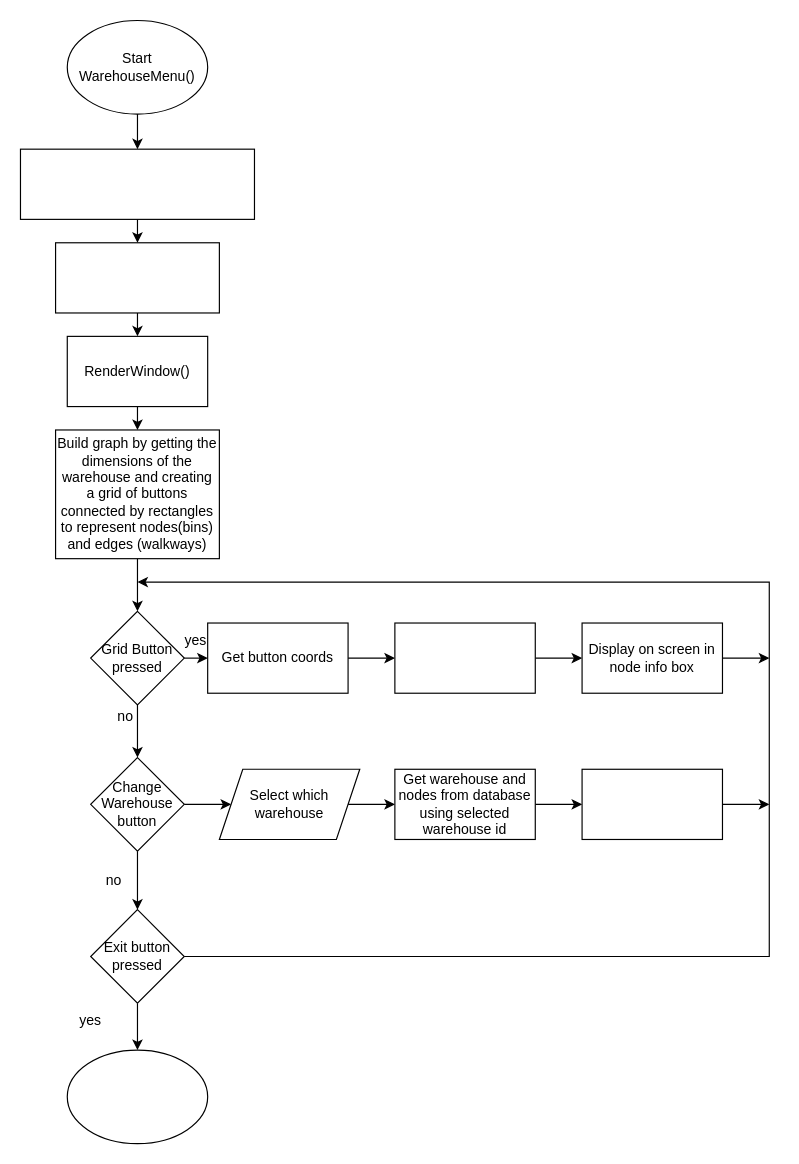
Image size: 799x1164. Some labels were removed from this diagram. Each missing label, with the box of its shape:
End This.close(): (66, 1049, 208, 1144)
Get data about corresponding node: (394, 622, 535, 693)
Get default Warehouse from database using getWarehouse(warehouseID{1}): (19, 148, 254, 219)
Get Nodes from Database using GetNodes(Graphname): (54, 242, 219, 313)
rebuild Graph using same method as before but with new data: (581, 768, 722, 839)
